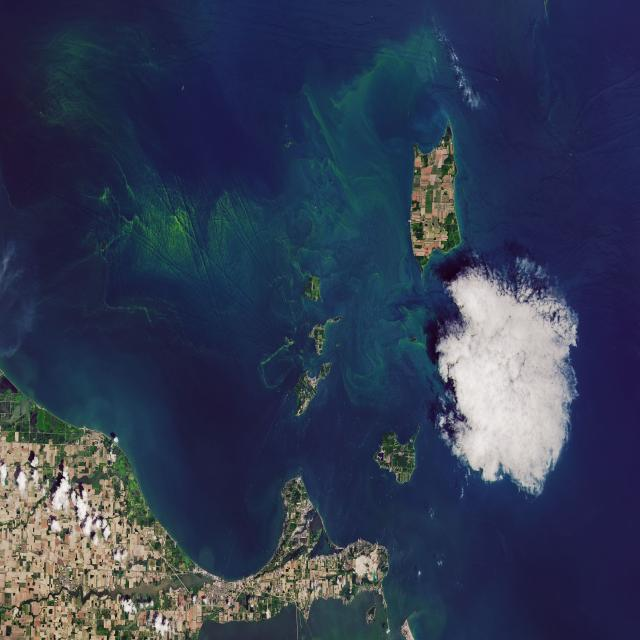algal: (288, 41, 405, 271), (149, 208, 359, 288), (46, 88, 152, 235), (361, 49, 367, 54)
